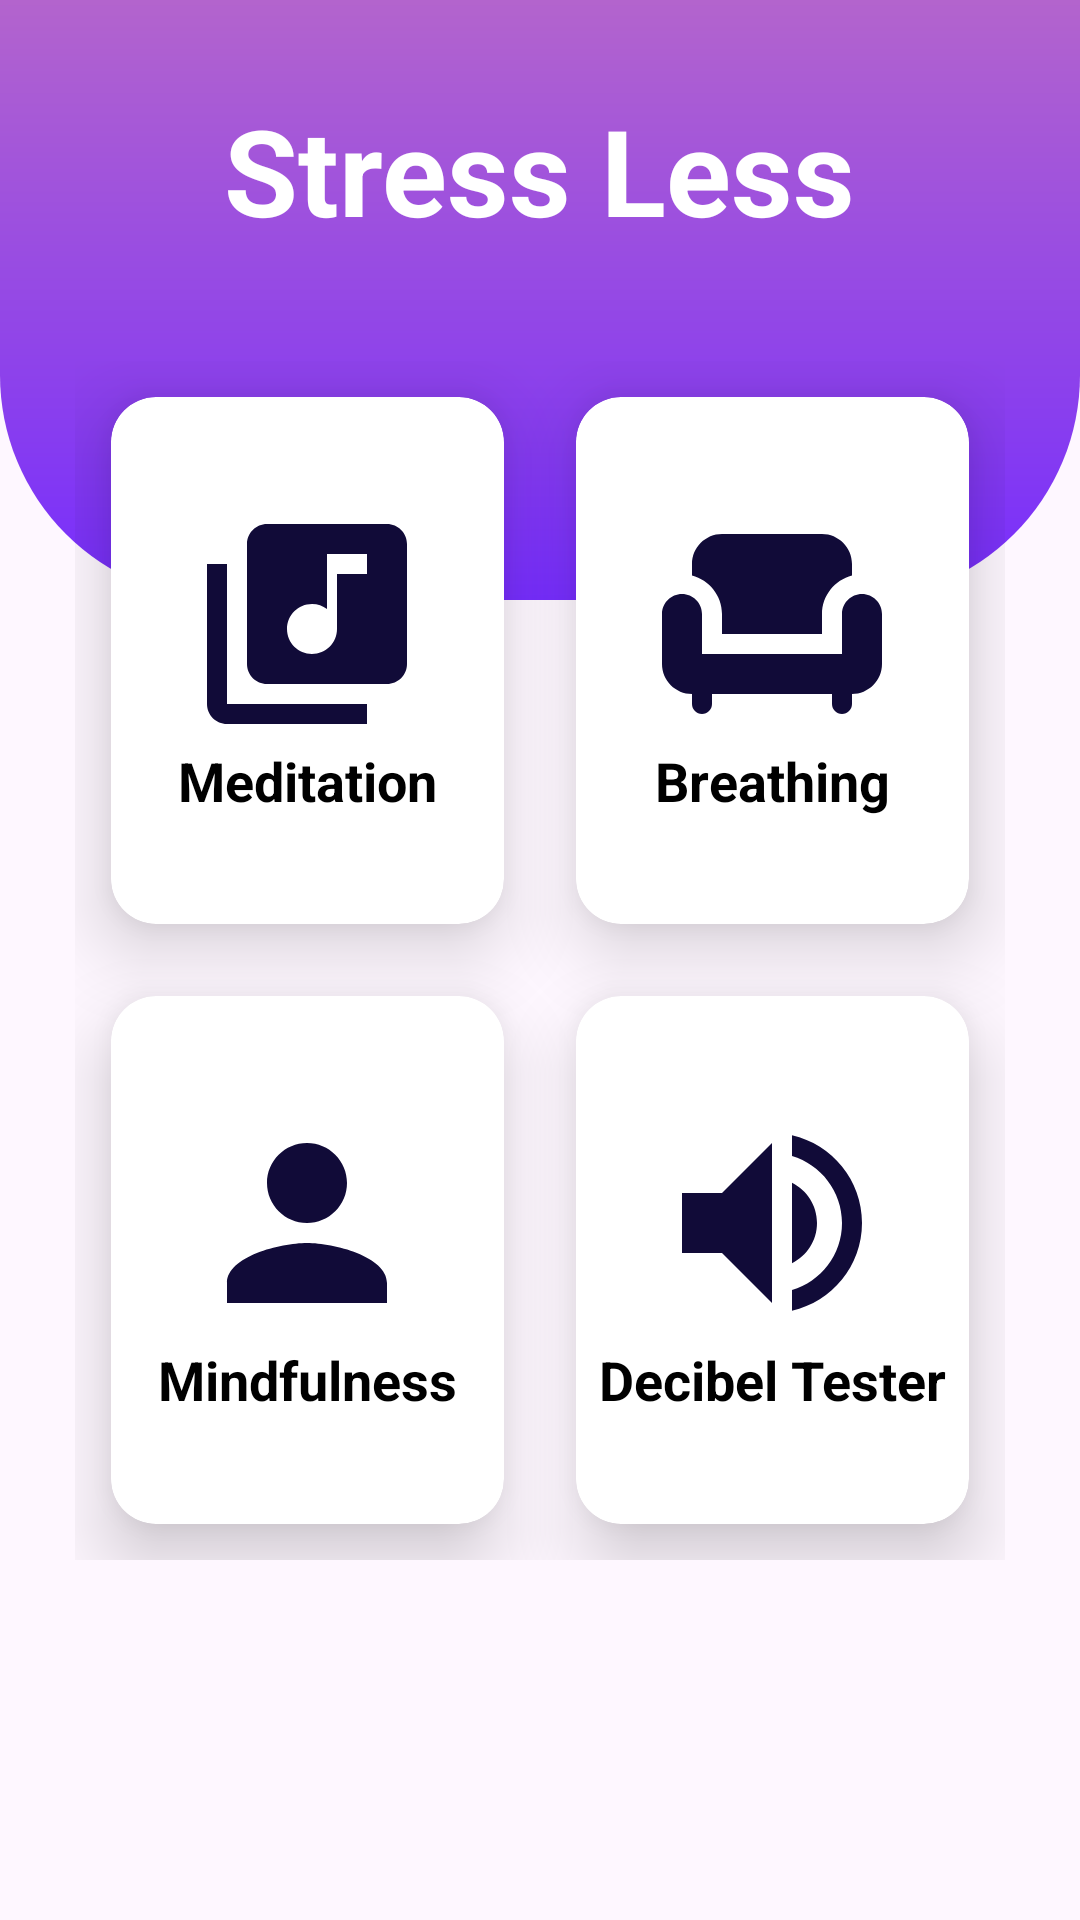

Where to tap for icons on this 1080x1920 app screen, as (x,y):
chair: (772,624)
library music: (307,624)
person: (307,1223)
volume up: (772,1223)
